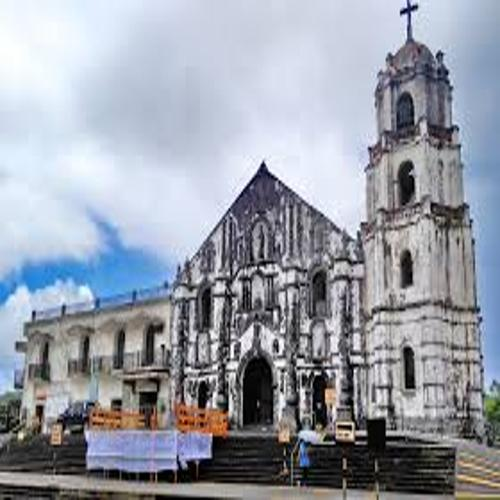Daraga Church: (170, 1, 492, 443)
